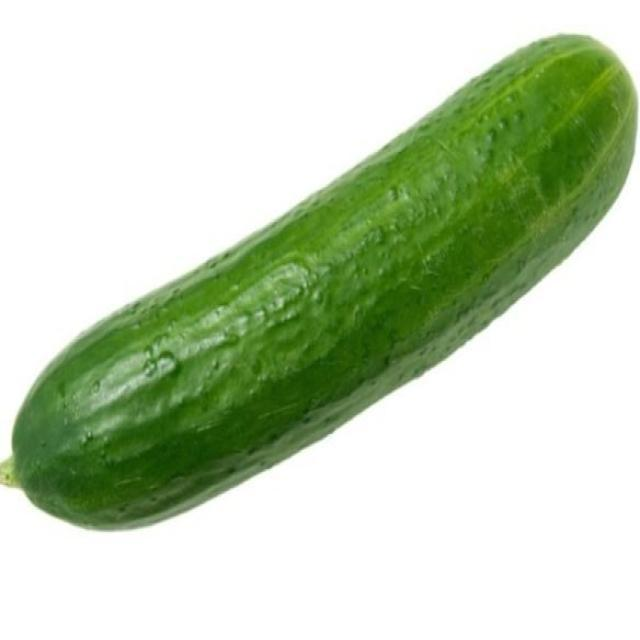cucumber: (15, 34, 637, 532)
